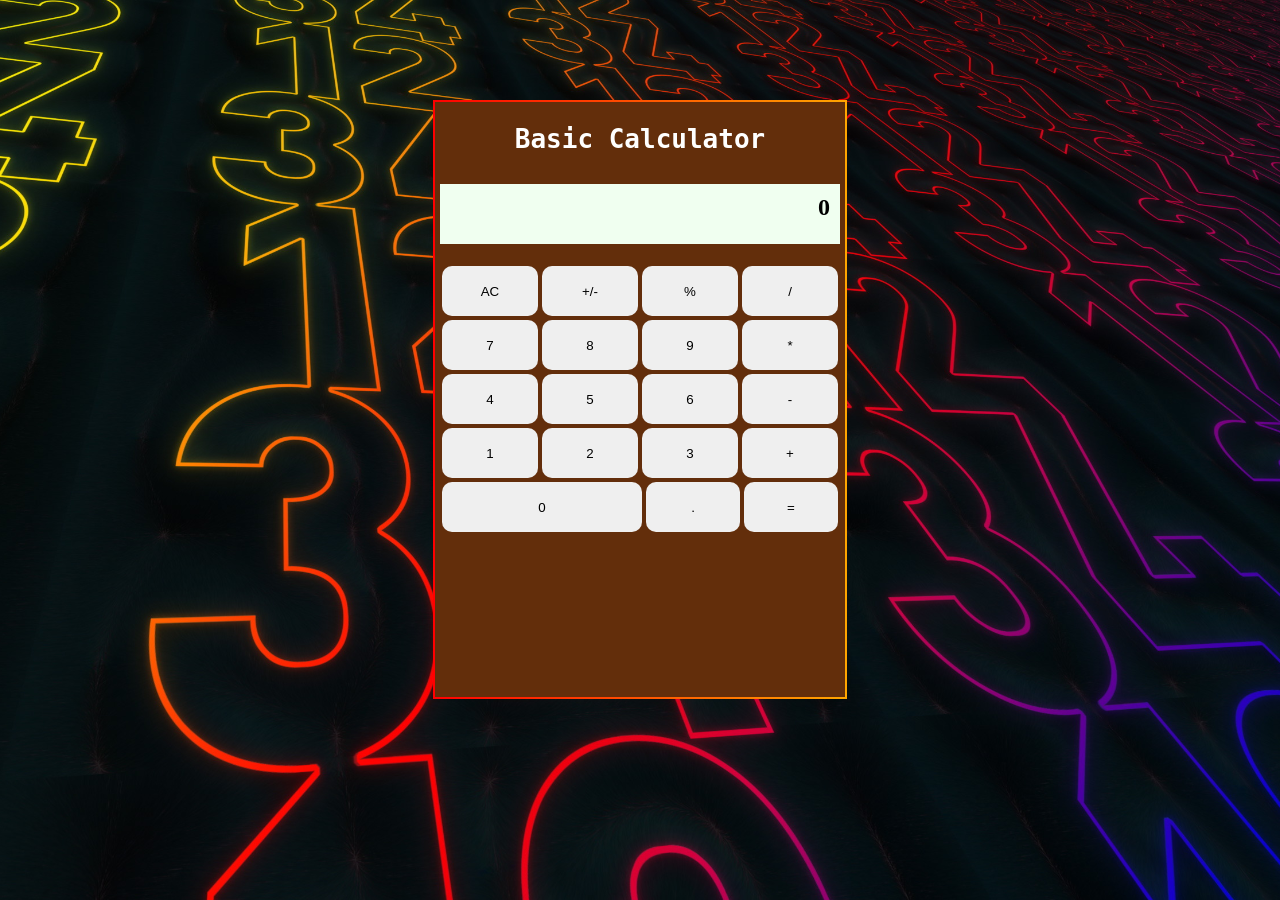
Test case: Calculator methods › test to multiply numbers
Click the button "6" at (690,399), box [642,374,738,424]
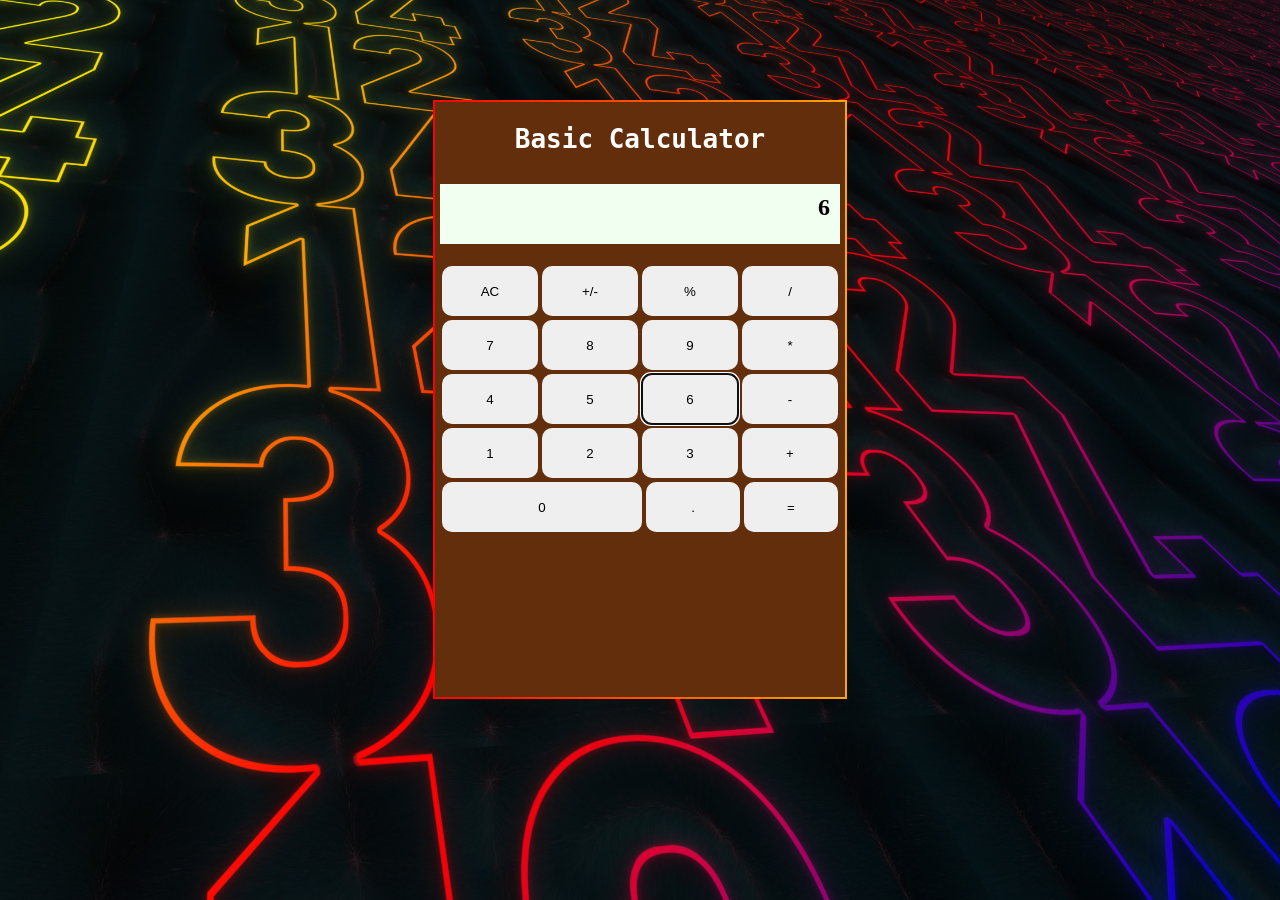
Click the button "8" at (590,345), box [542,320,638,370]
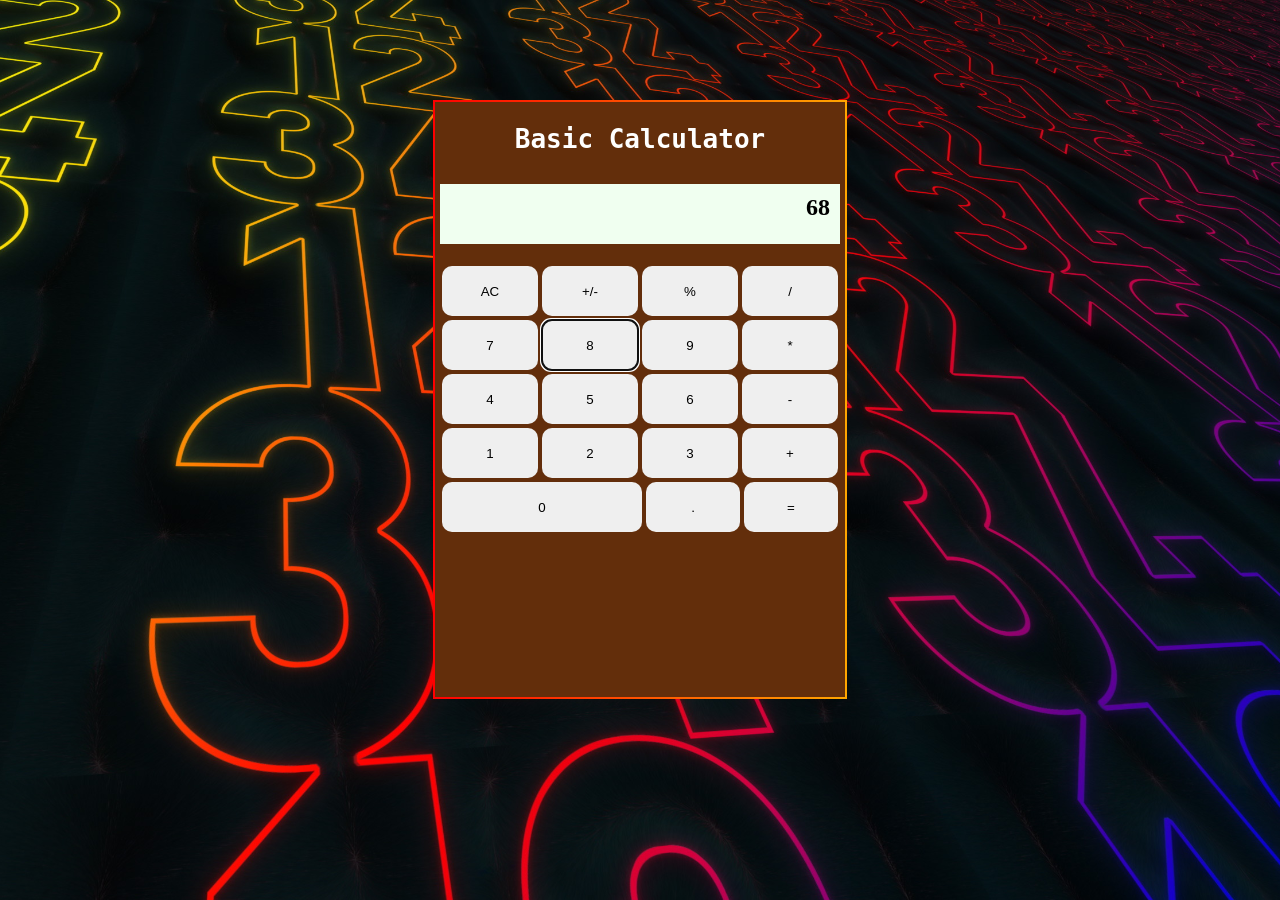
Click the button "*" at (790,345), box [742,320,838,370]
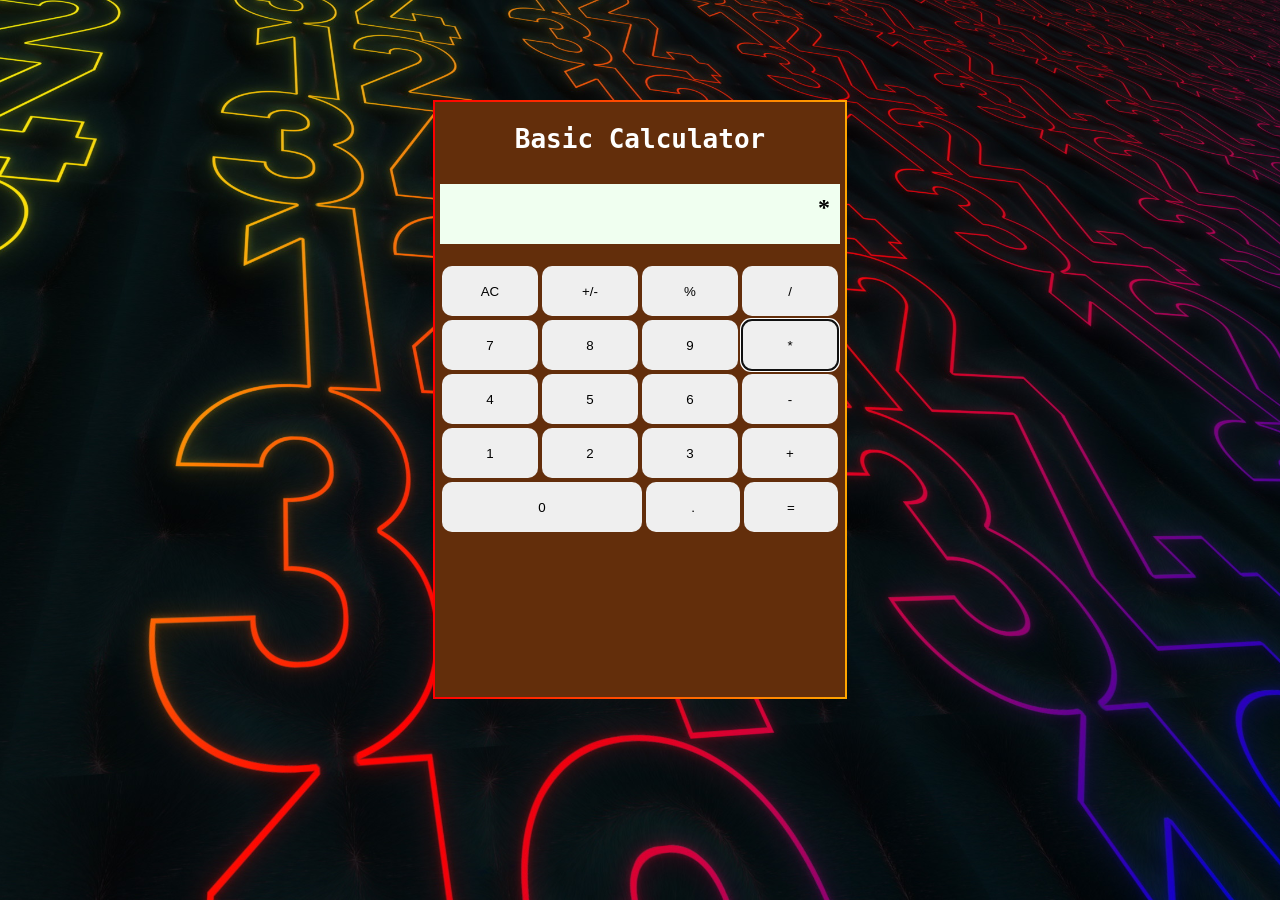
Click the button "2" at (590,453), box [542,428,638,478]
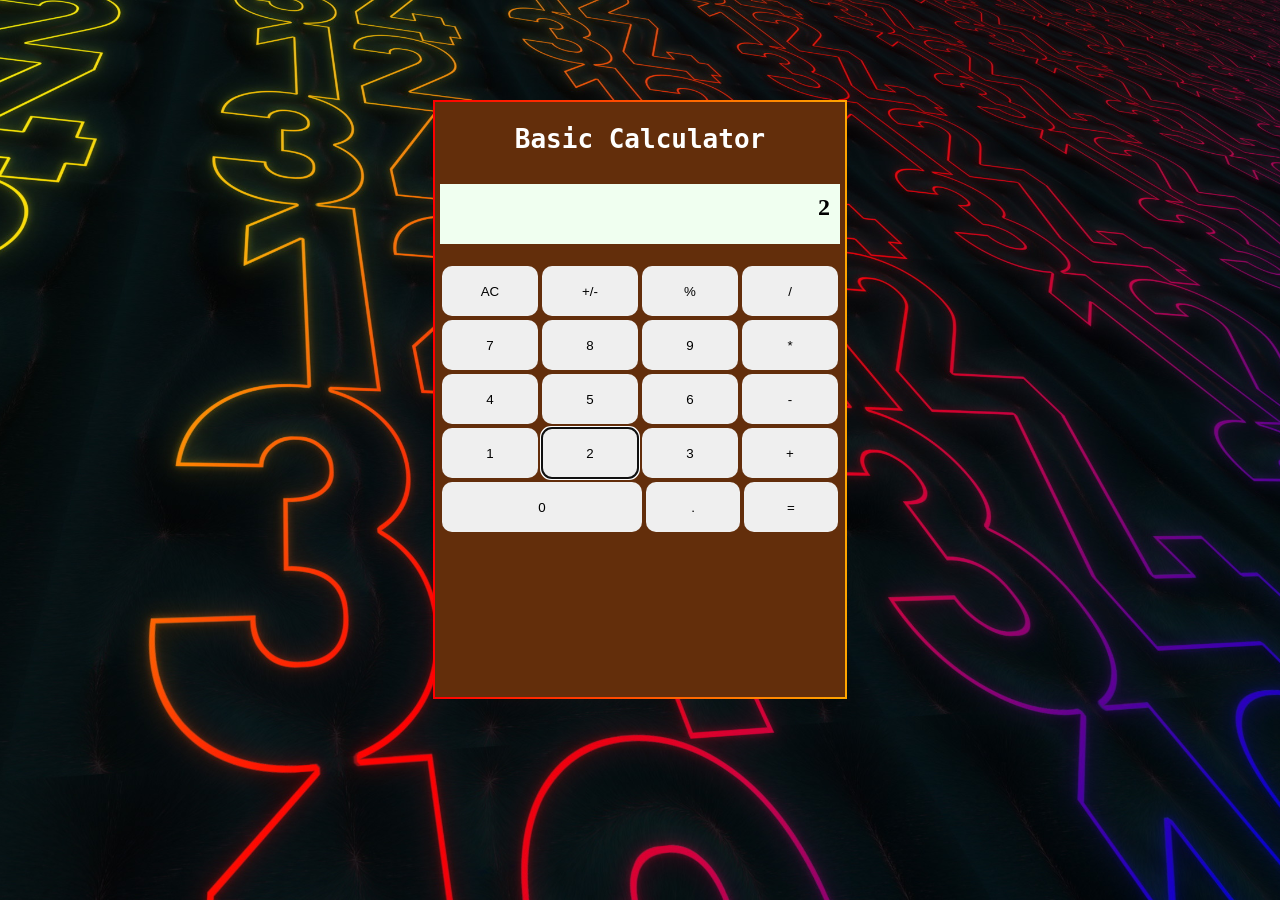
Click the button "=" at (791,507), box [744,482,838,532]
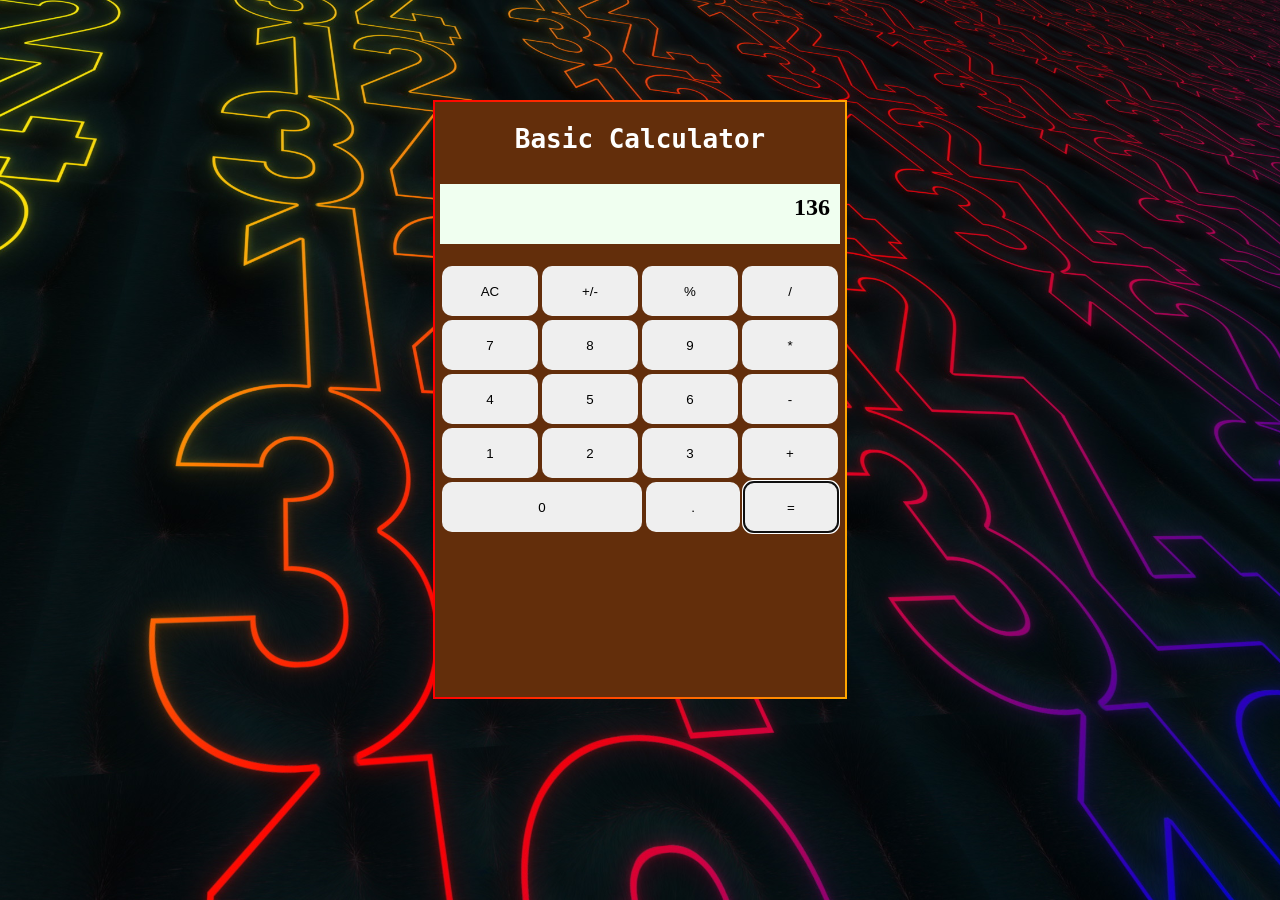
Check: the heading "136" is shown, box [440,184,840,244]
